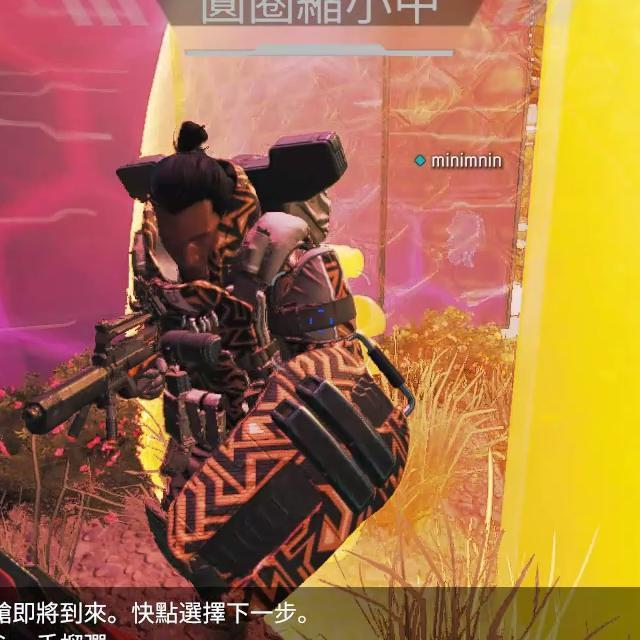avatar: (127, 115, 414, 624)
